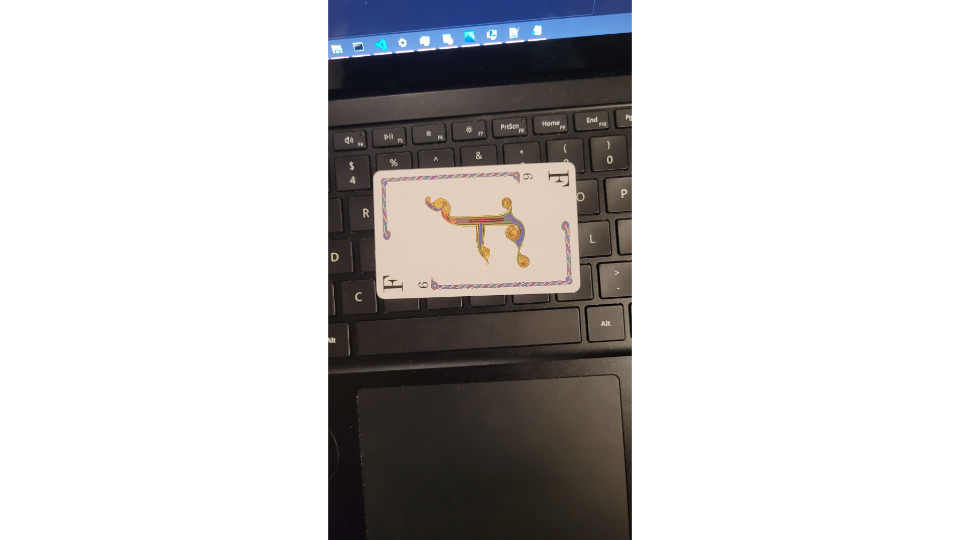F: (366, 159, 585, 300)
